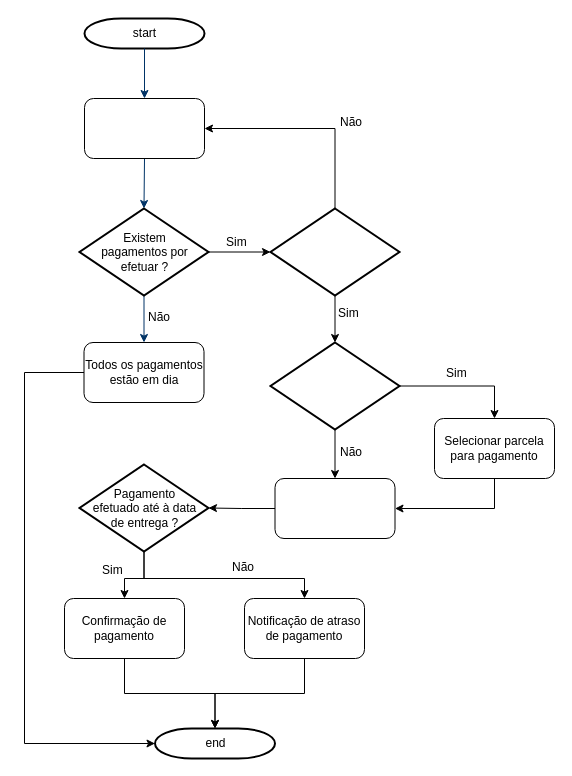
The diagram is 572 pixels wide and 776 high, and some of its shapes have lost their labels. Each missing label, with the box of its shape:
Efetuar pagamento: (274, 478, 395, 538)
Efetuar pagamento ?: (269, 207, 400, 296)
Pagamento parcelado ?: (269, 341, 400, 430)
Visualizar Pagamentos efetuados e por efetuar: (84, 98, 204, 158)
